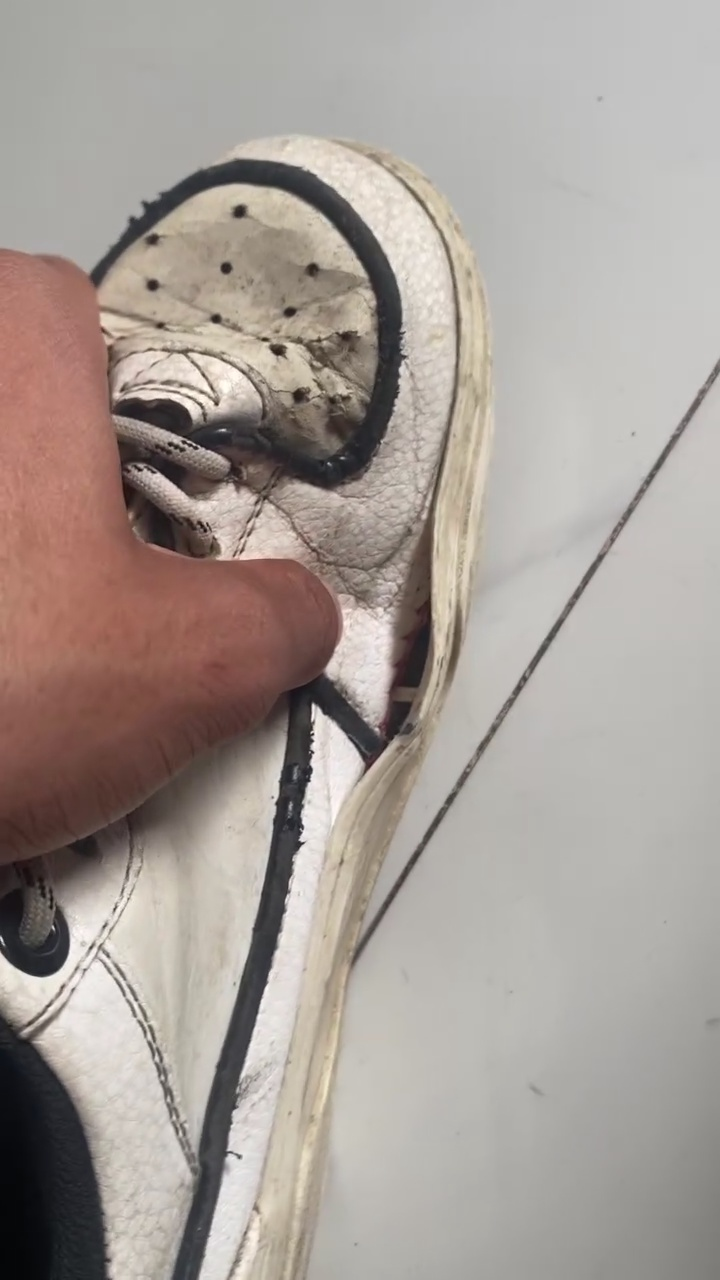bonding: (335, 550, 443, 766)
